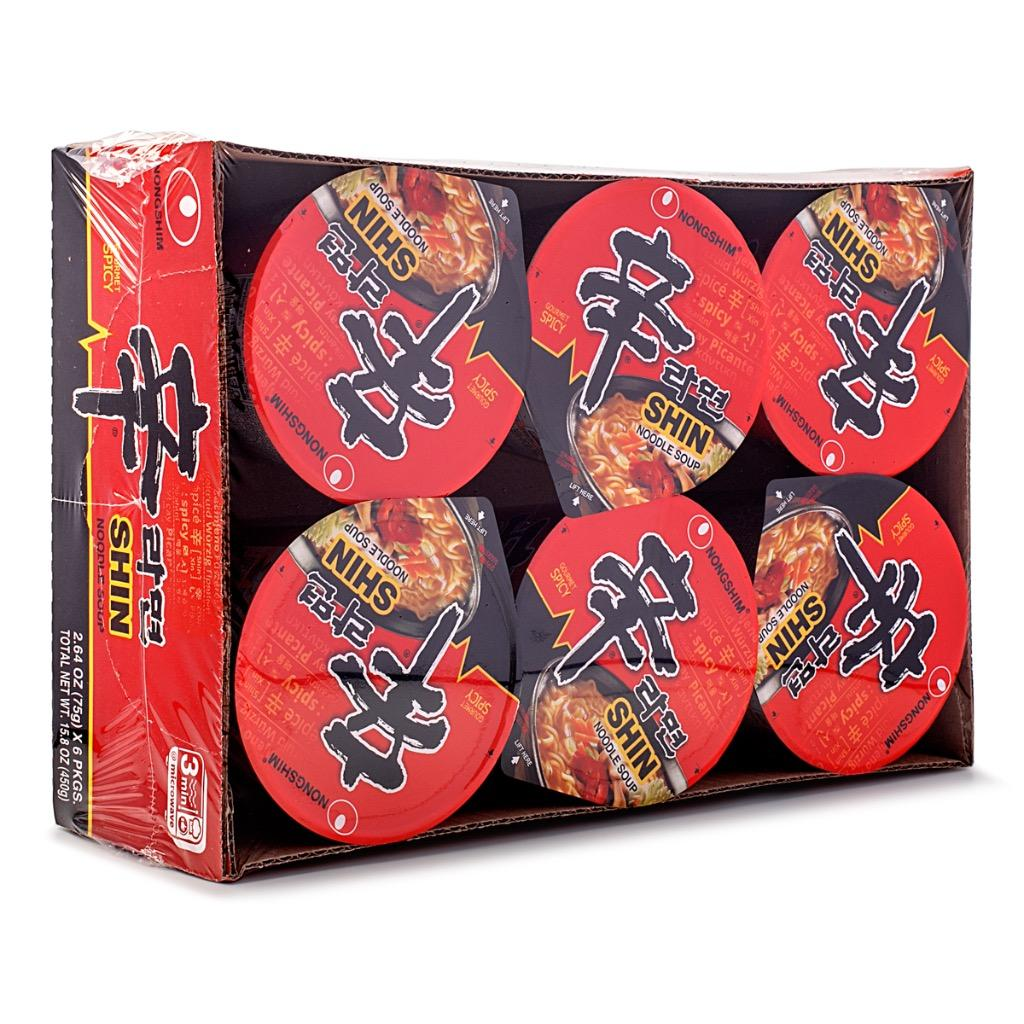instant_noodle: (229, 509, 528, 835), (249, 153, 534, 494), (533, 175, 756, 496), (531, 511, 757, 809), (759, 487, 978, 793), (757, 187, 988, 472)
